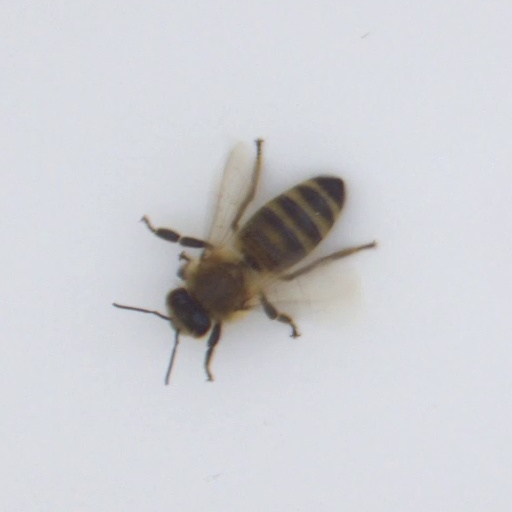Bee: (141, 157, 381, 360)
Thorax: (187, 250, 254, 318)
